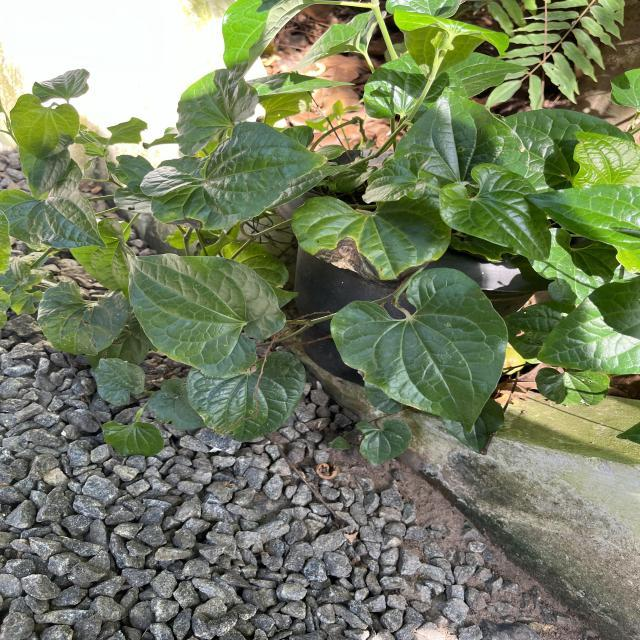Piper longum: (328, 265, 512, 437), (122, 250, 288, 380), (437, 160, 554, 263), (7, 91, 82, 161)
